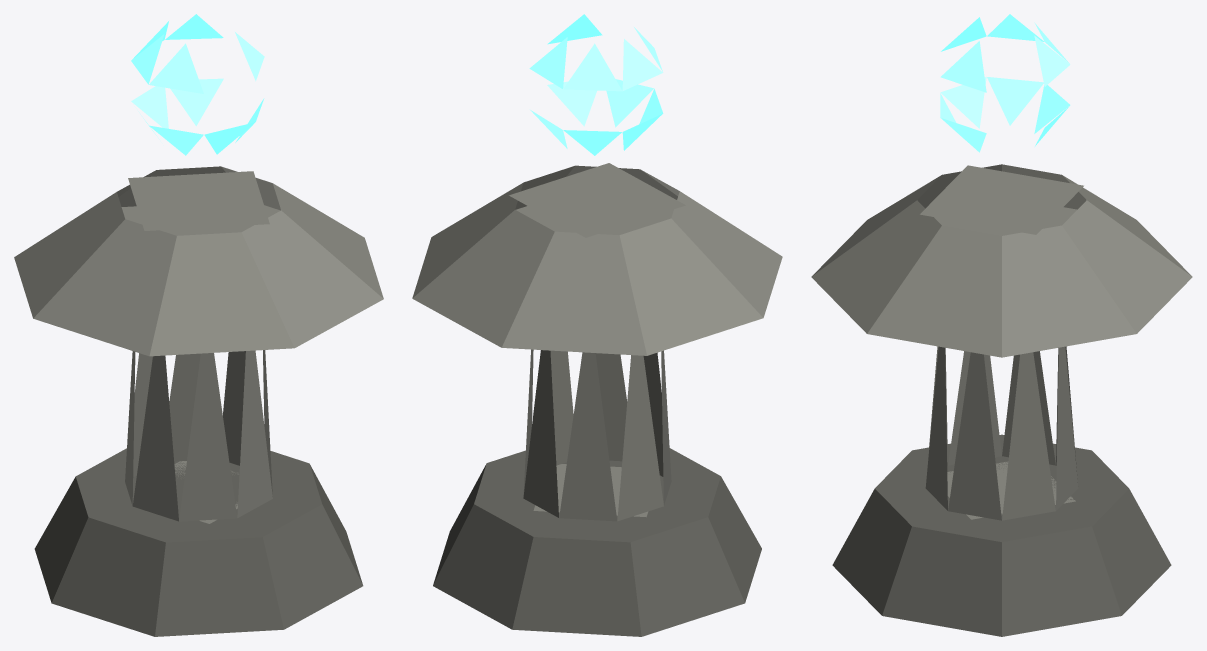
Rendered from night_soulfire_pedestal_lod1.glb.
3 renders of one model, left to right at view 1: azimuth 30°, elevation 25°; view 2: azimuth 150°, elevation 25°; view 3: azimuth 270°, elevation 25°, orthographic.
Parts seen in each view (by area): view 1: night_soulfire_pedestal_lod1; view 2: night_soulfire_pedestal_lod1; view 3: night_soulfire_pedestal_lod1.
Boxes of the visible parts, bbox=[...] form: night_soulfire_pedestal_lod1: bbox=[14, 14, 383, 636]; night_soulfire_pedestal_lod1: bbox=[412, 14, 782, 636]; night_soulfire_pedestal_lod1: bbox=[811, 14, 1192, 636].
Size of the model in its own units: 0.9 by 1.4 by 0.9.
